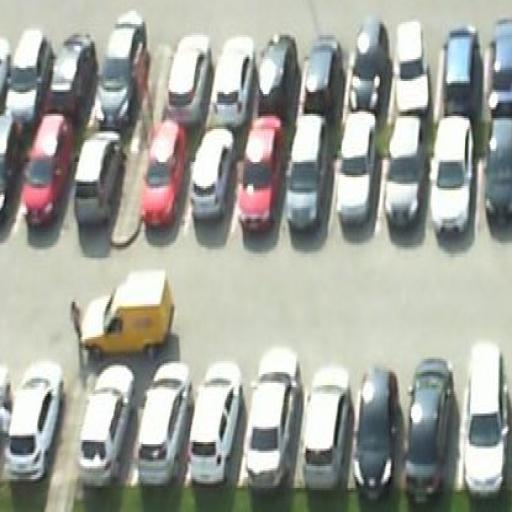car: (76, 267, 178, 363), (401, 354, 456, 512), (0, 359, 67, 488), (461, 339, 512, 503), (243, 348, 301, 492), (133, 359, 194, 490), (77, 363, 138, 490), (186, 359, 243, 490), (18, 112, 76, 236), (298, 364, 353, 492), (353, 368, 401, 506), (95, 11, 149, 131), (285, 112, 333, 236), (237, 116, 286, 234), (139, 118, 189, 232), (431, 116, 476, 241), (73, 127, 126, 230), (334, 112, 379, 232), (4, 24, 52, 134), (384, 114, 427, 234), (166, 31, 214, 129), (188, 127, 236, 225), (49, 30, 99, 122), (211, 35, 257, 131), (440, 22, 482, 122), (348, 22, 391, 118), (302, 33, 344, 122), (256, 31, 298, 118), (395, 20, 432, 116), (483, 116, 512, 232), (0, 114, 25, 232), (488, 17, 512, 120)
